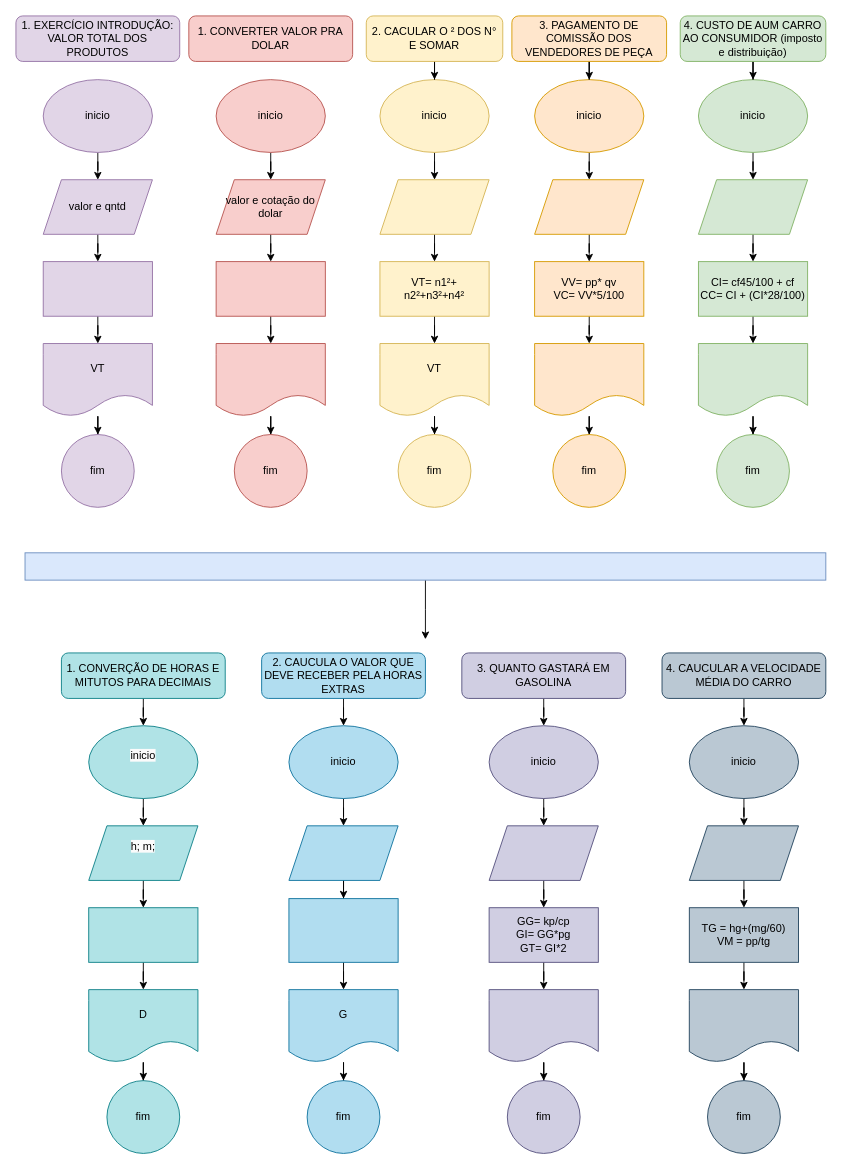
Some shapes in this 842 by 1169 pixel diagram are drawn without their labels. The box of each missing label's shape, as (x1, y1, x2, y2) in pixels:
CC: (698, 343, 808, 416)
cf: (698, 179, 808, 234)
Convercao= valor*4,98: (215, 261, 325, 316)
Converção: (215, 343, 325, 416)
DESAFIOS:: (24, 552, 826, 580)
GI; GT: (488, 989, 598, 1062)
h; m; gh: (288, 825, 398, 880)
kp; cg; pg: (488, 825, 598, 880)
M = m/60 D = h + M G= D*gh GT= G+G*70/100: (288, 898, 398, 962)
M= m/60 D= h+ M: (88, 907, 198, 962)
n1; n2; n3; n4: (379, 179, 489, 234)
pp; hg; mg: (688, 825, 799, 880)
pp; qv: (534, 179, 644, 234)
VM: (688, 989, 799, 1062)
VT= valor*qntd: (42, 261, 152, 316)
VV e VC: (534, 343, 644, 416)
